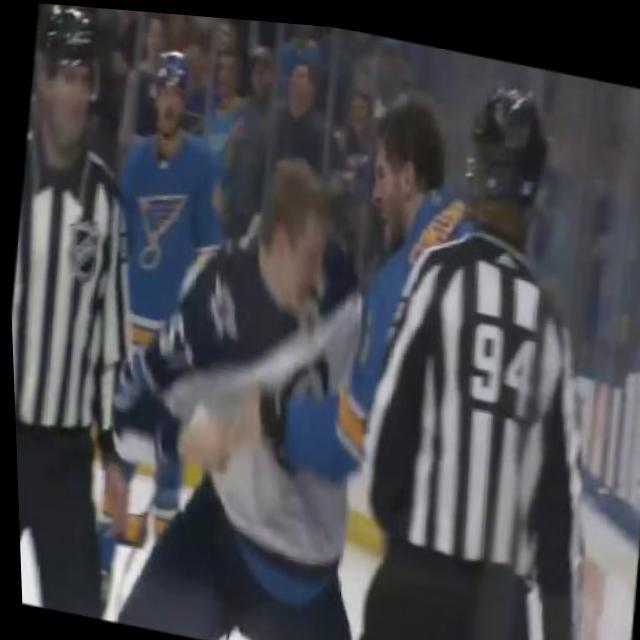fight: (83, 41, 504, 624)
